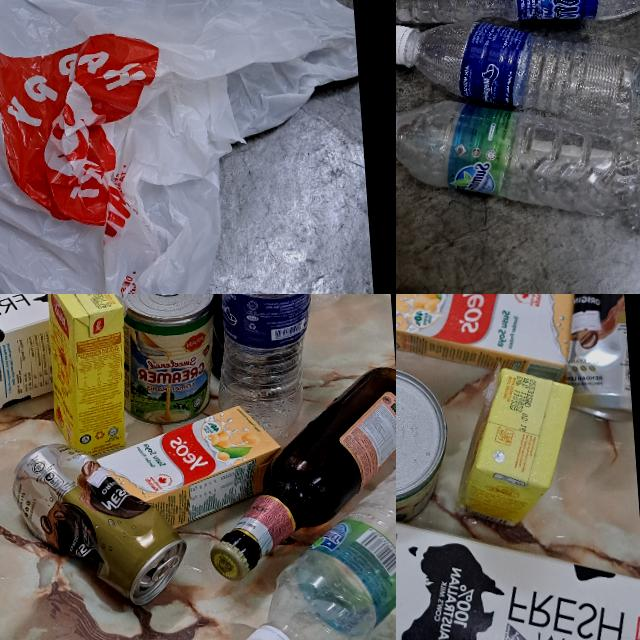aba de lata: (150, 554, 182, 582)
caixinha: (396, 483, 640, 640), (93, 403, 287, 533), (455, 360, 587, 526), (0, 294, 161, 427), (396, 294, 582, 380), (42, 294, 132, 456)
garrafa de vidro: (196, 364, 396, 581), (186, 294, 326, 384)
garrafa plástica: (396, 88, 635, 226), (405, 10, 640, 134), (256, 462, 396, 640), (205, 294, 324, 441)
lata: (8, 437, 188, 614), (116, 294, 223, 426), (547, 294, 632, 419), (396, 360, 456, 531)
sacola plástica: (0, 0, 377, 294)
tampa plástica: (396, 19, 415, 71), (239, 624, 297, 640)
